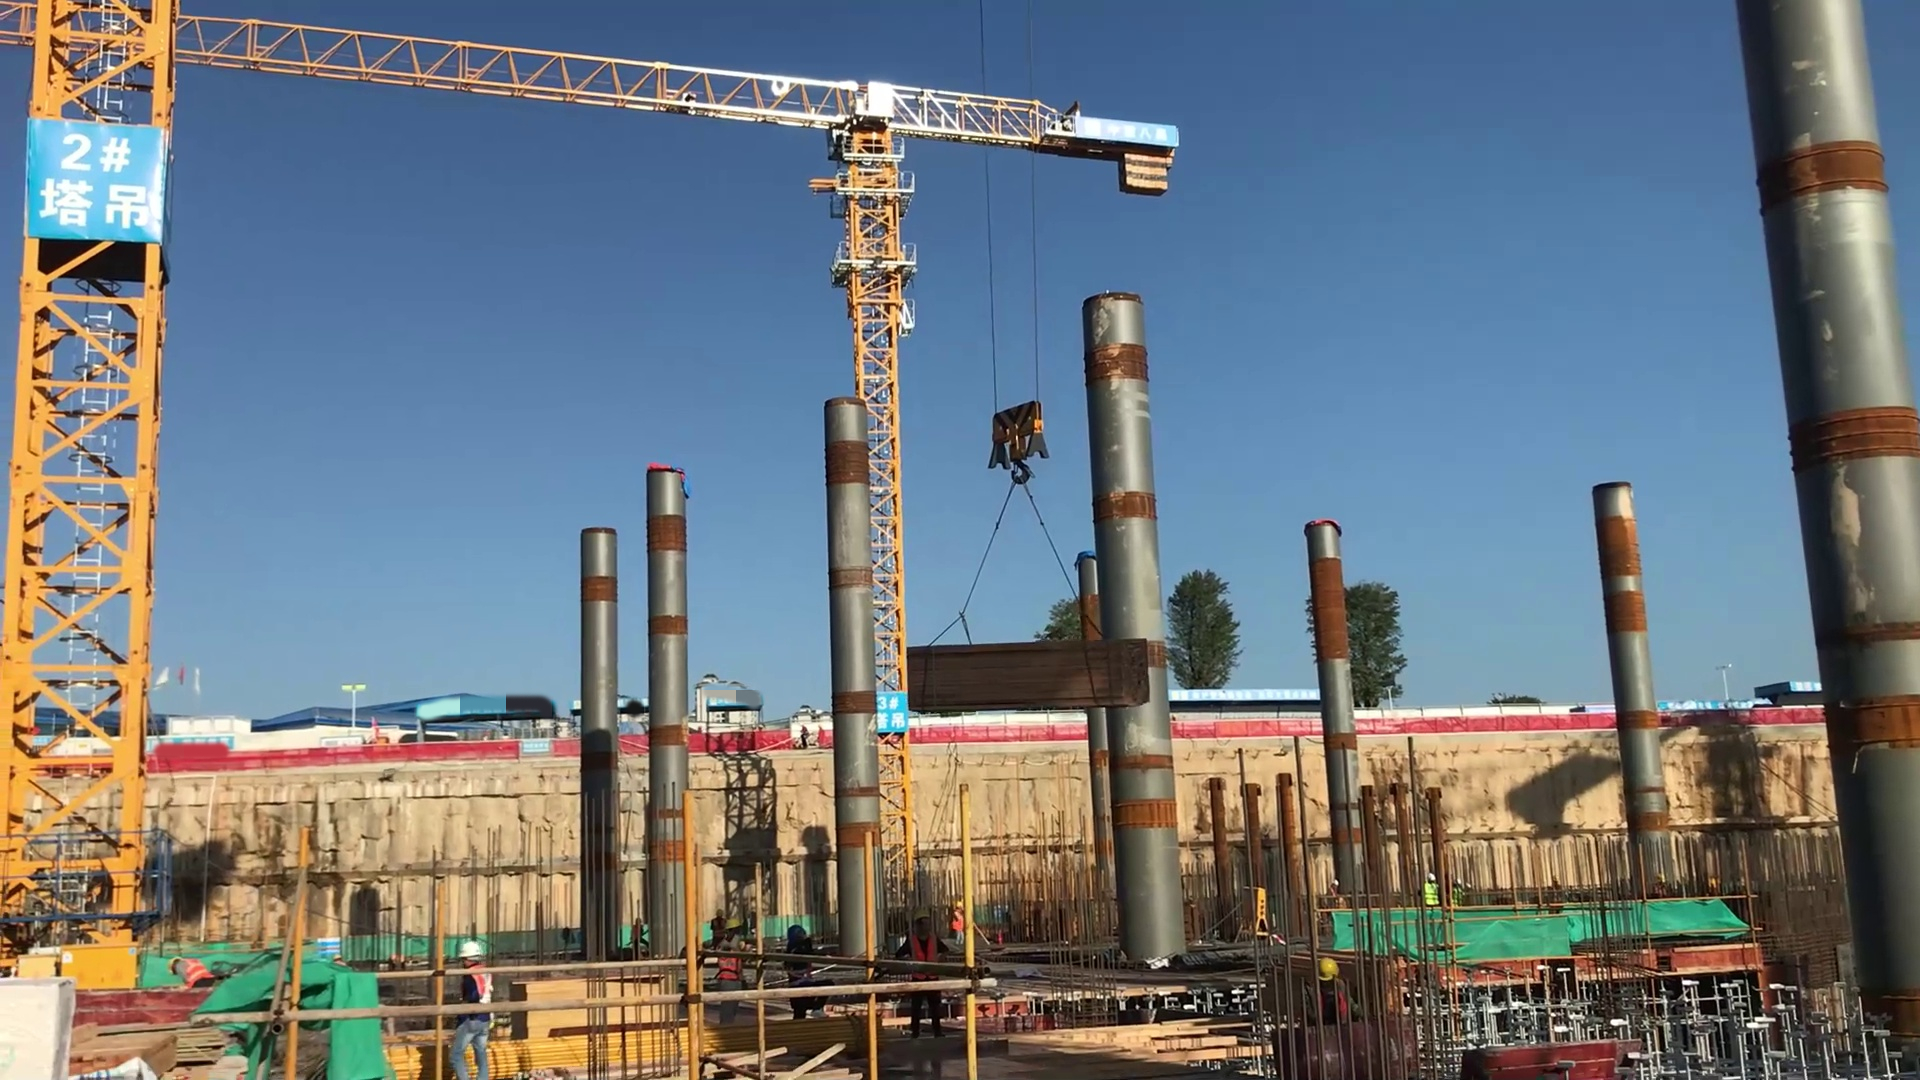ebox: (1238, 879, 1274, 939)
helmet: (902, 897, 939, 923), (1315, 949, 1346, 980), (455, 933, 486, 962), (162, 947, 184, 981), (720, 910, 756, 927)
hook: (985, 397, 1052, 472)
person: (896, 911, 958, 1045), (451, 939, 491, 1080), (951, 888, 996, 965), (704, 912, 750, 983), (783, 922, 812, 1015), (167, 955, 214, 989)
vest: (907, 931, 942, 981), (464, 972, 493, 1015), (180, 952, 208, 989), (1416, 880, 1456, 906), (714, 957, 740, 977)
wood: (893, 608, 1179, 727)
